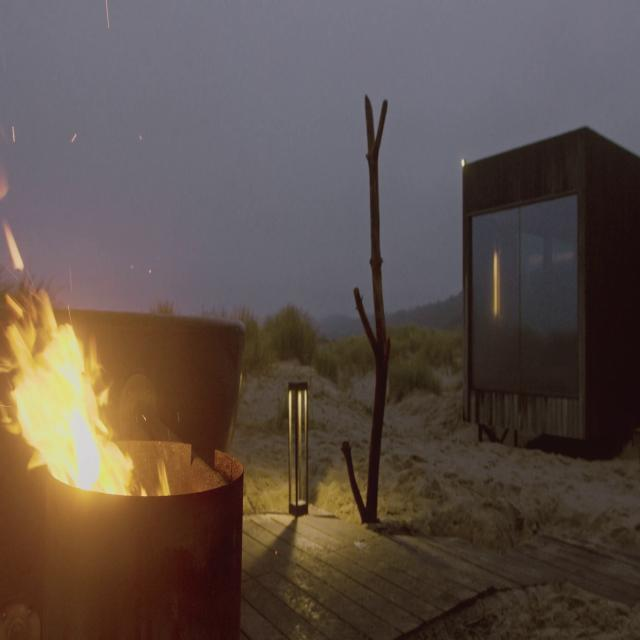Fire: (0, 249, 140, 500)
